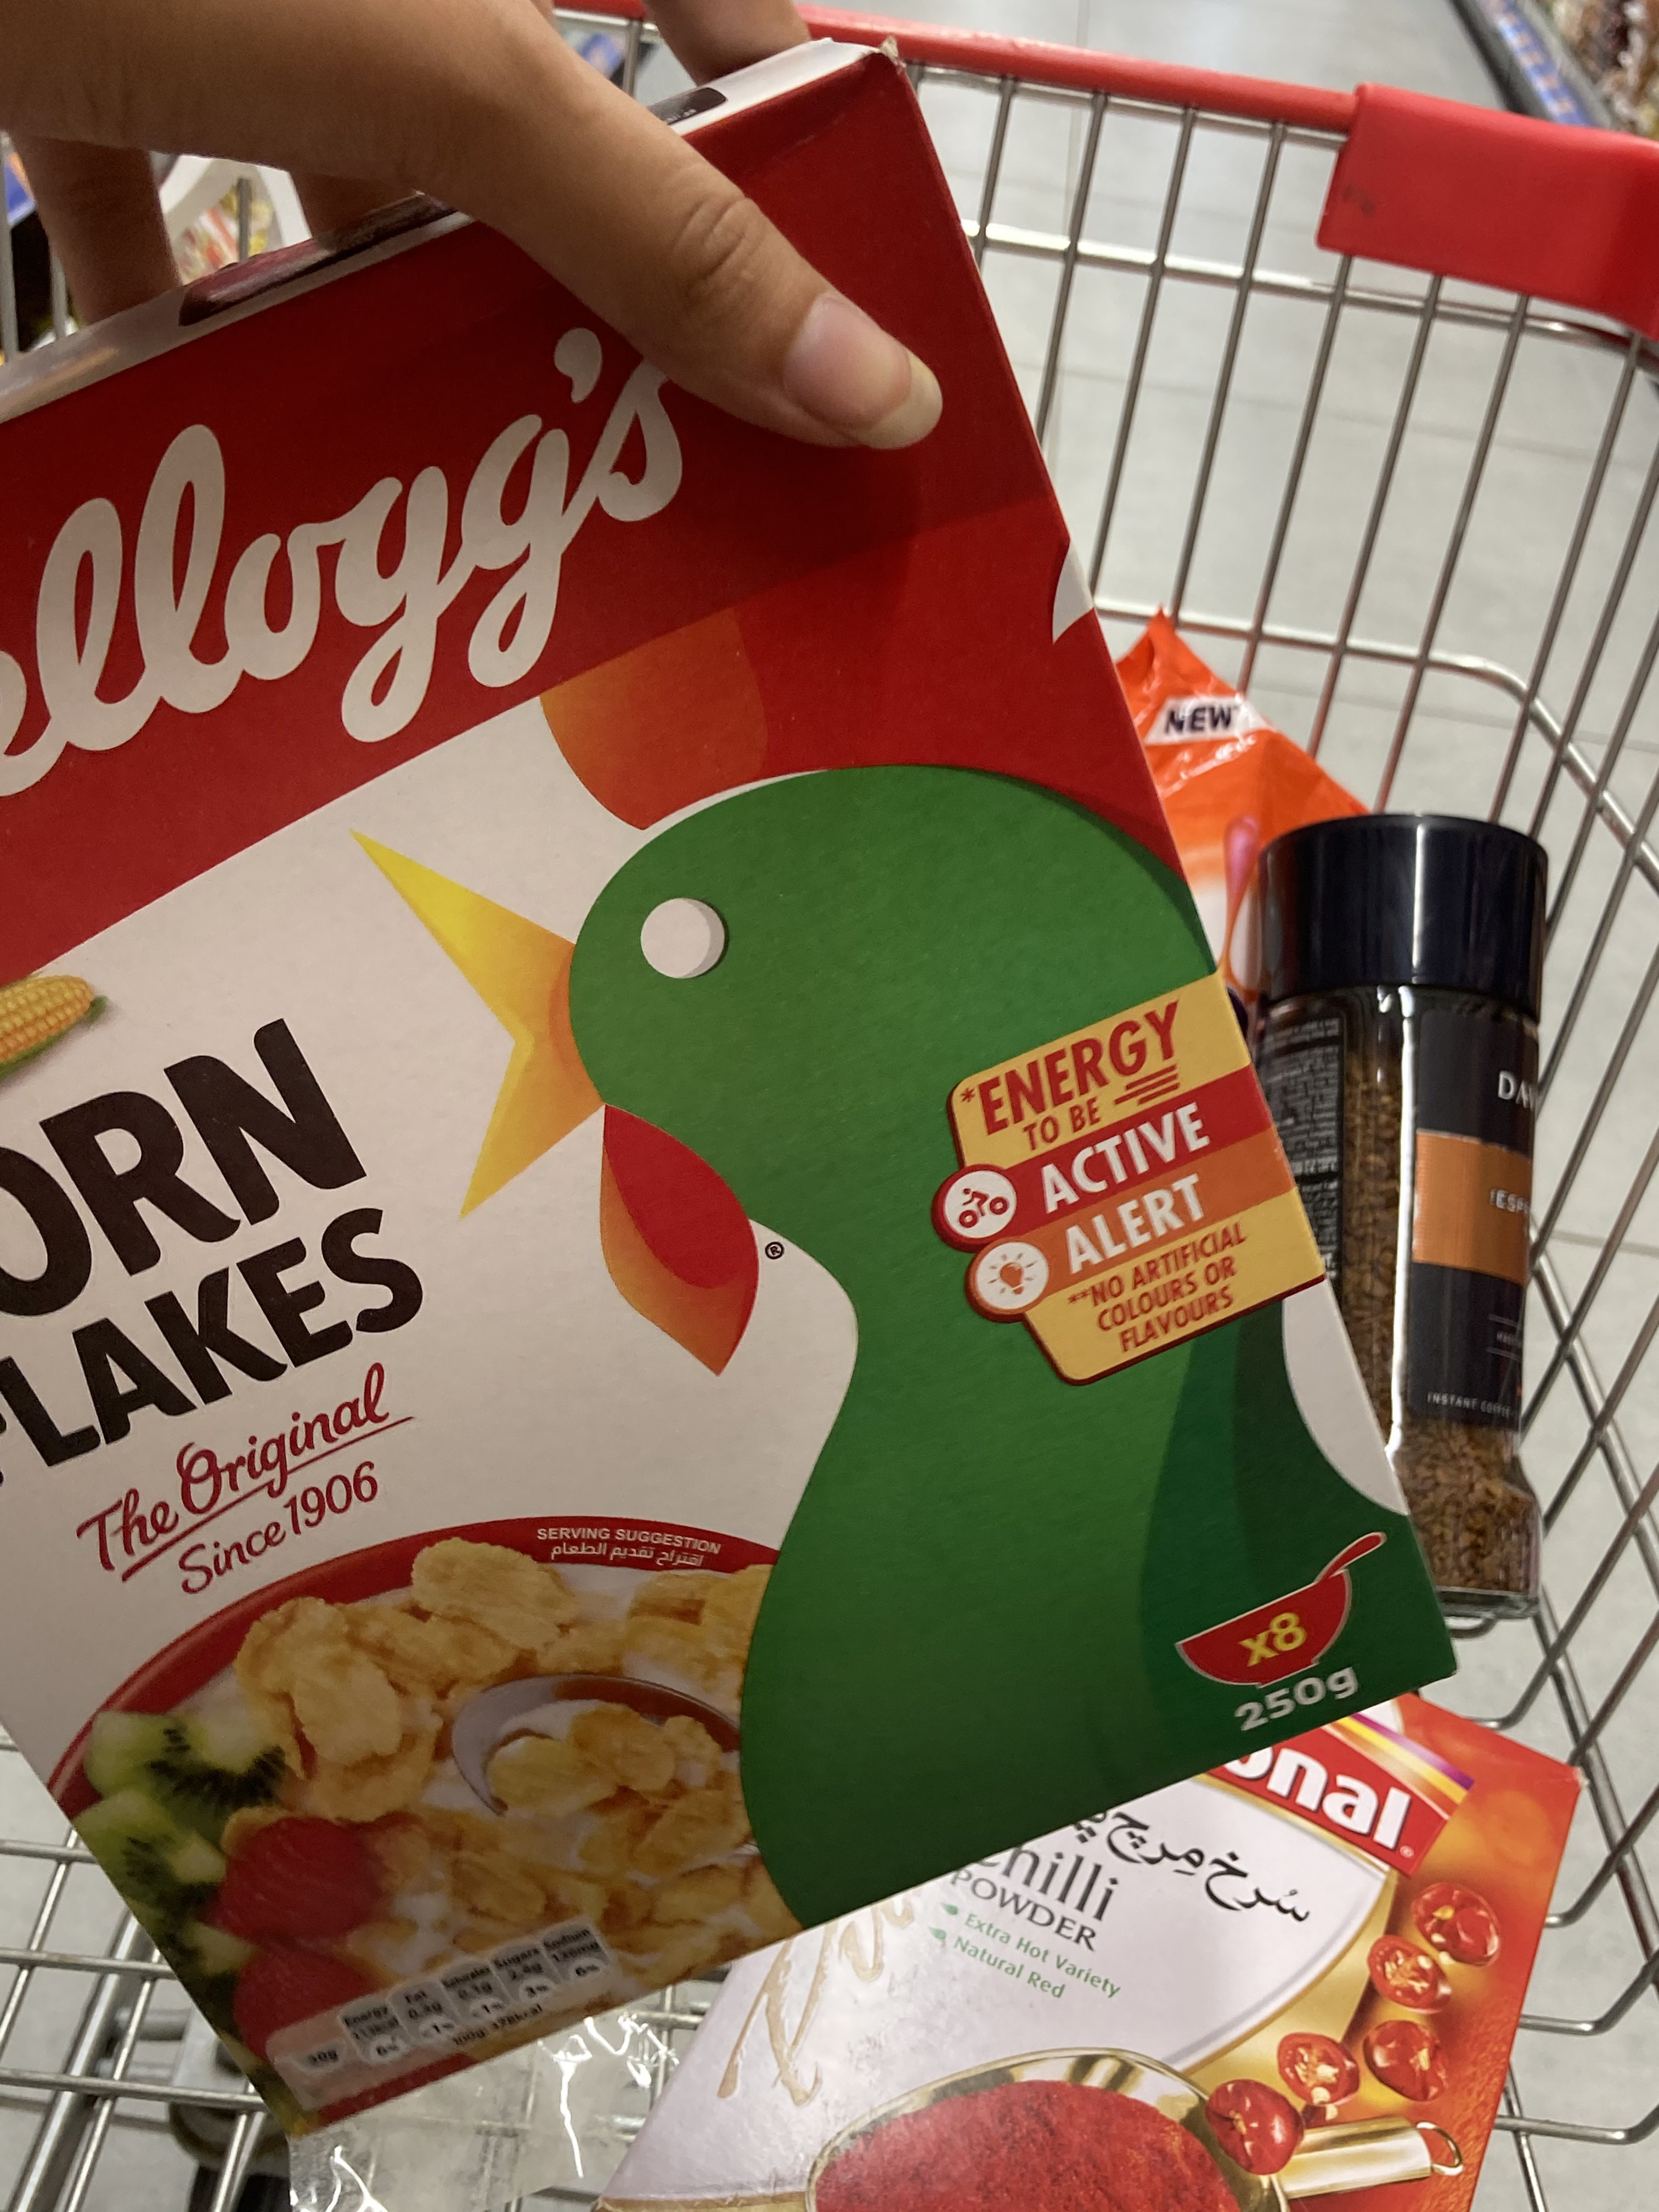Kellogg's Corn Flakes: (5, 44, 1462, 2125)
